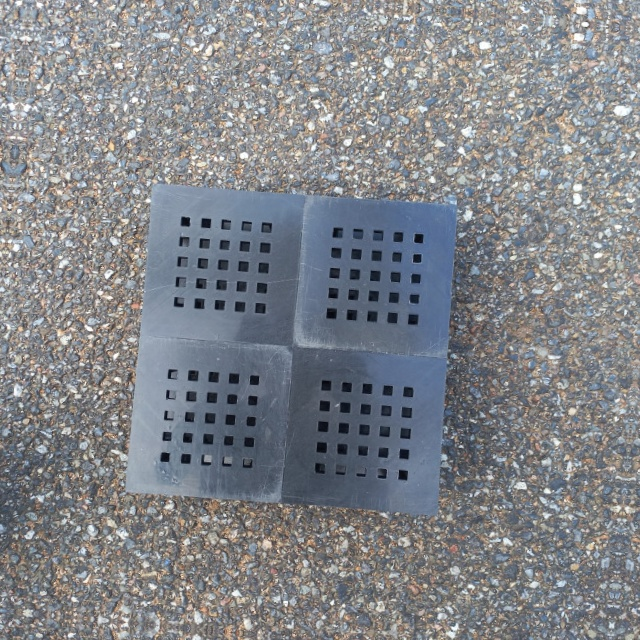pallet: (115, 178, 461, 518)
